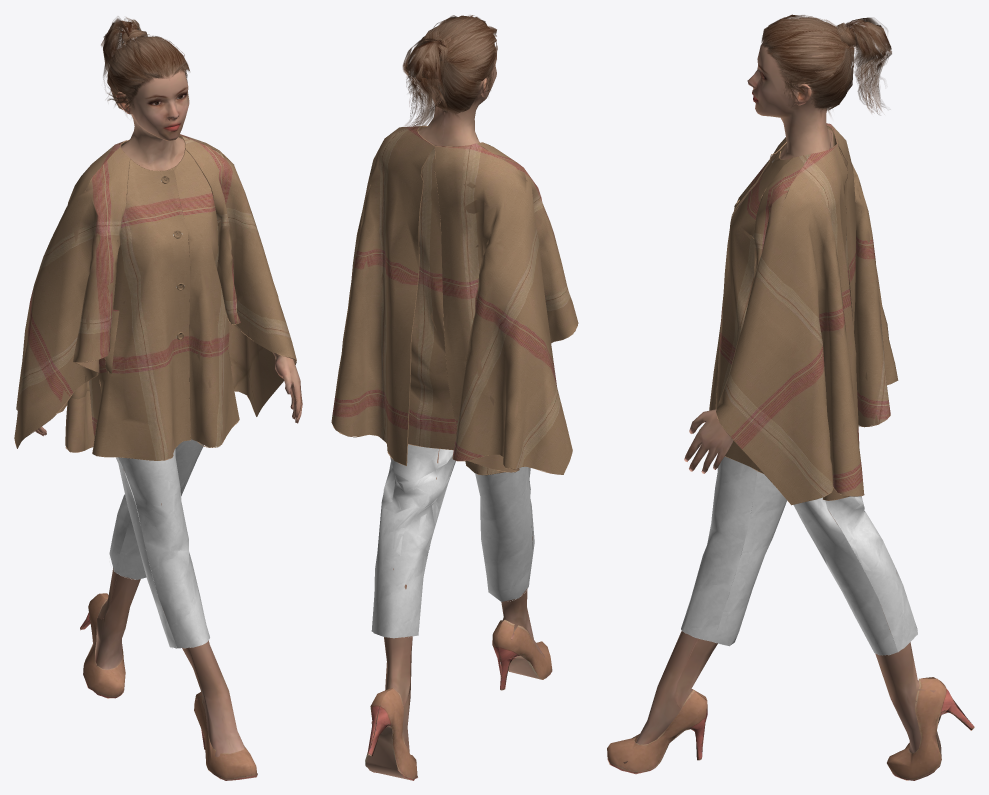
The model's file is cape-coat.glb.
3 views of the same model, side by side, from view 1: azimuth 30°, elevation 25°; view 2: azimuth 150°, elevation 25°; view 3: azimuth 270°, elevation 25° (orthographic). The views are drawn at different scales.
Parts seen in each view (by area): view 1: Object_0, Object_31, Object_1, Object_69, Object_66, Object_79, Object_77, Object_68; view 2: Object_0, Object_31, Object_79, Object_77, Object_69, Object_1, Object_66; view 3: Object_0, Object_31, Object_79, Object_77, Object_69, Object_66, Object_68, Object_1.
Boxes of the visible parts, x1=… form: Object_0: x1=14, y1=134, x2=296, y2=460; Object_31: x1=109, y1=439, x2=209, y2=648; Object_1: x1=14, y1=135, x2=296, y2=460; Object_69: x1=95, y1=469, x2=244, y2=757; Object_66: x1=116, y1=69, x2=189, y2=171; Object_79: x1=101, y1=16, x2=189, y2=114; Object_77: x1=80, y1=593, x2=257, y2=780; Object_68: x1=35, y1=138, x2=302, y2=435; Object_0: x1=331, y1=125, x2=578, y2=475; Object_31: x1=371, y1=444, x2=534, y2=638; Object_79: x1=402, y1=15, x2=497, y2=130; Object_77: x1=365, y1=620, x2=552, y2=780; Object_69: x1=377, y1=449, x2=544, y2=768; Object_1: x1=333, y1=126, x2=577, y2=475; Object_66: x1=418, y1=37, x2=496, y2=146; Object_0: x1=709, y1=123, x2=897, y2=504; Object_31: x1=681, y1=456, x2=917, y2=655; Object_79: x1=761, y1=14, x2=891, y2=114; Object_77: x1=607, y1=677, x2=974, y2=780; Object_69: x1=623, y1=510, x2=935, y2=763; Object_66: x1=747, y1=41, x2=843, y2=159; Object_68: x1=684, y1=131, x2=832, y2=472; Object_1: x1=717, y1=125, x2=896, y2=505.
Size of the model in its own units: 0.4139 by 1.2 by 0.5313.
Materials: 21 (16 with a texture image).
